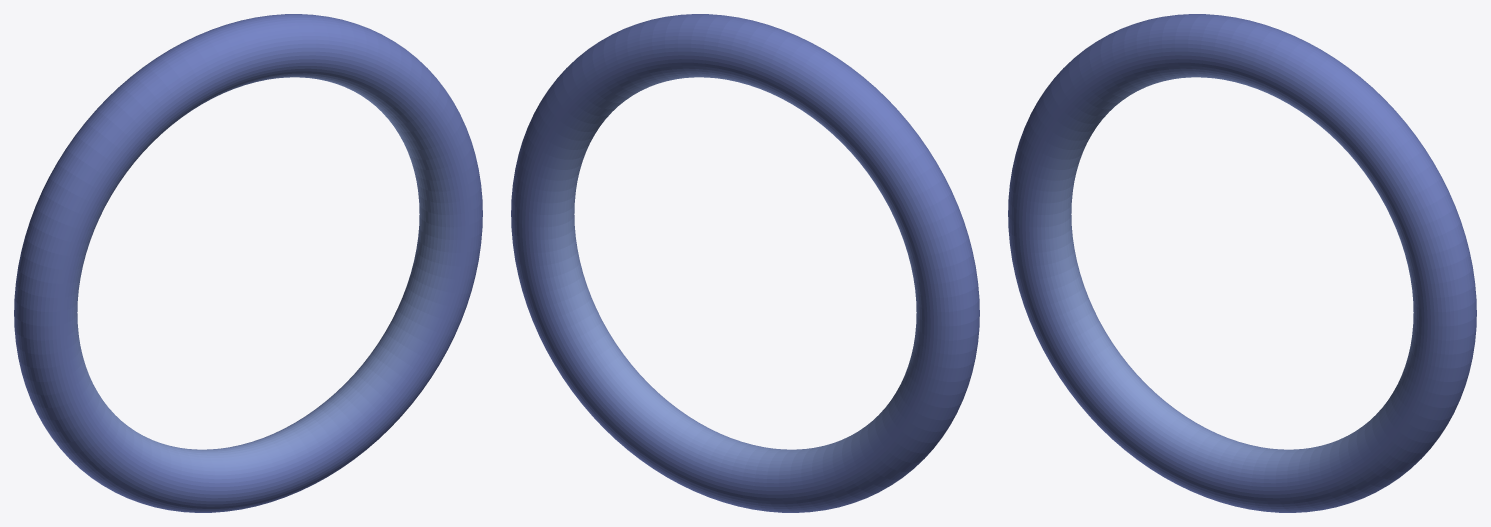
3 renders of one model, left to right at view 1: azimuth 30°, elevation 25°; view 2: azimuth 150°, elevation 25°; view 3: azimuth 330°, elevation 25°, orthographic.
Visible parts, largest first — view 1: world; view 2: world; view 3: world.
Boxes of the visible parts, x1,y1,x2,y2 form: world: (14, 14, 482, 512); world: (511, 14, 979, 512); world: (1008, 14, 1476, 512).
Size of the model in its own units: 23.47 by 23.47 by 2.79.
